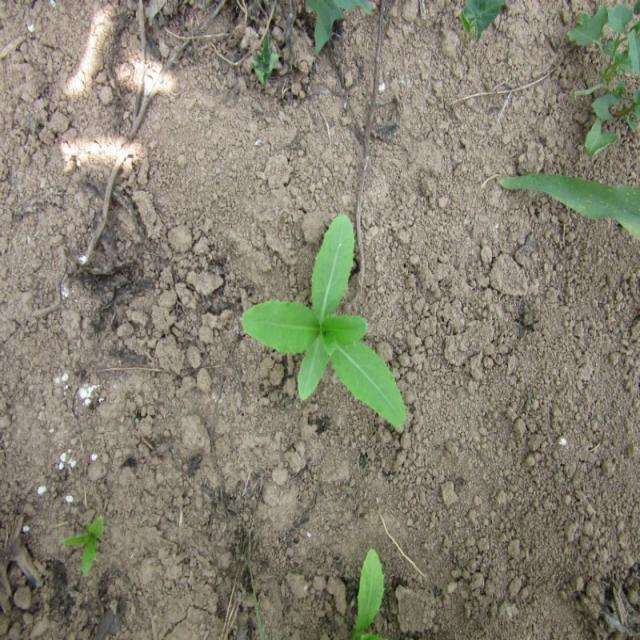cs: (237, 208, 413, 442)
